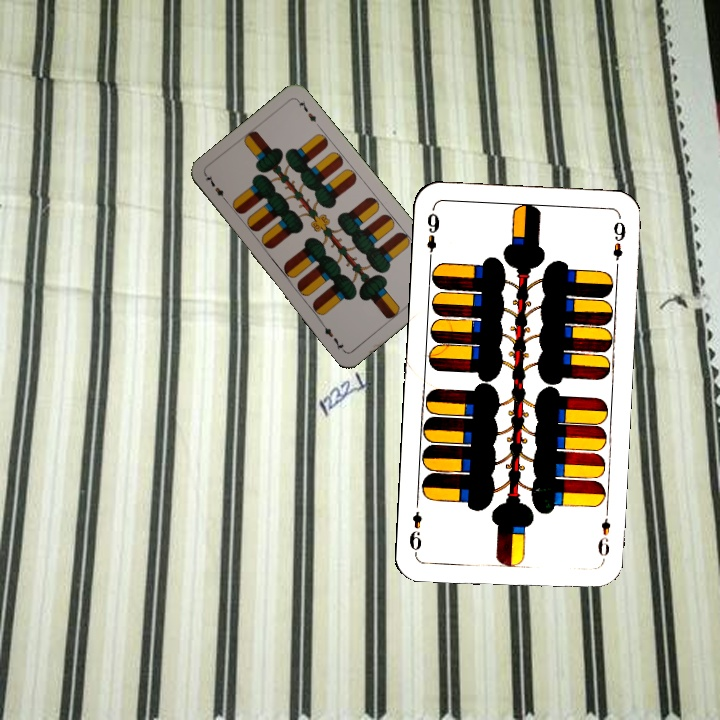E7: (201, 171, 231, 206)
E9: (593, 505, 613, 564), (422, 209, 443, 265)
